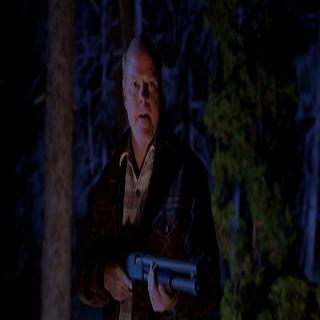gun: (126, 248, 204, 310)
